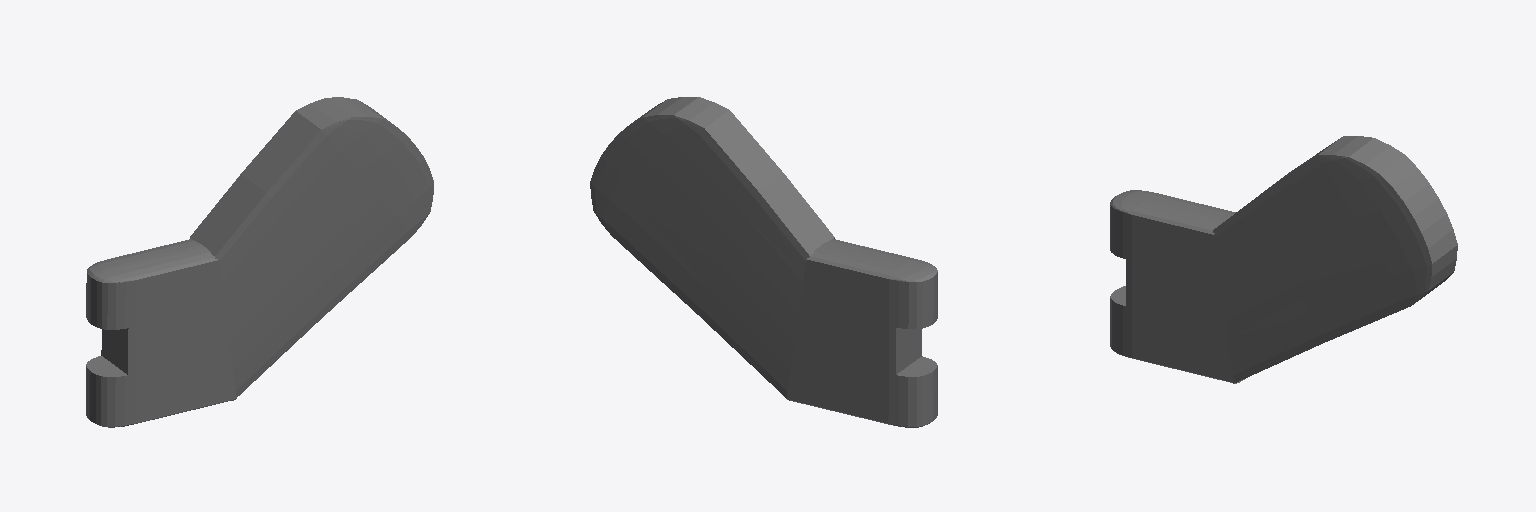
File: rightConnector.obj
3 views of the same model, side by side, from view 1: azimuth 30°, elevation 25°; view 2: azimuth 150°, elevation 25°; view 3: azimuth 330°, elevation 25° (orthographic).
Visible parts, largest first — view 1: freedom:ChafCaja1282 rightConnector, rightConnector freedom:ChafCaja1283; view 2: freedom:ChafCaja1282 rightConnector, rightConnector freedom:ChafCaja1283; view 3: freedom:ChafCaja1282 rightConnector, rightConnector freedom:ChafCaja1283.
Boxes of the visible parts, x1=… form: freedom:ChafCaja1282 rightConnector: x1=190, y1=97, x2=433, y2=400; rightConnector freedom:ChafCaja1283: x1=86, y1=239, x2=236, y2=427; freedom:ChafCaja1282 rightConnector: x1=590, y1=97, x2=834, y2=400; rightConnector freedom:ChafCaja1283: x1=787, y1=239, x2=937, y2=427; freedom:ChafCaja1282 rightConnector: x1=1213, y1=136, x2=1457, y2=383; rightConnector freedom:ChafCaja1283: x1=1110, y1=190, x2=1244, y2=383.
Bounding box in the file's own units: 24.2 × 18.11 × 3.6.